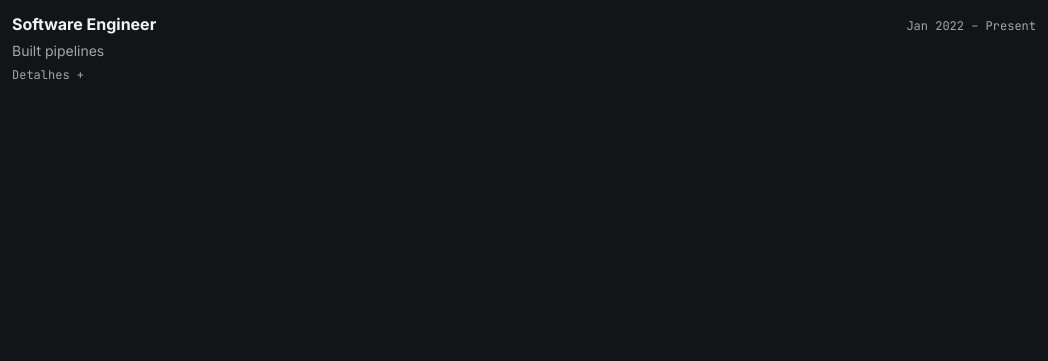
it: RoleCollapsible › aria-controls points to the region holding the remaining responsibilities
Click the button. click: (48, 75)
box: [12,67,84,83]
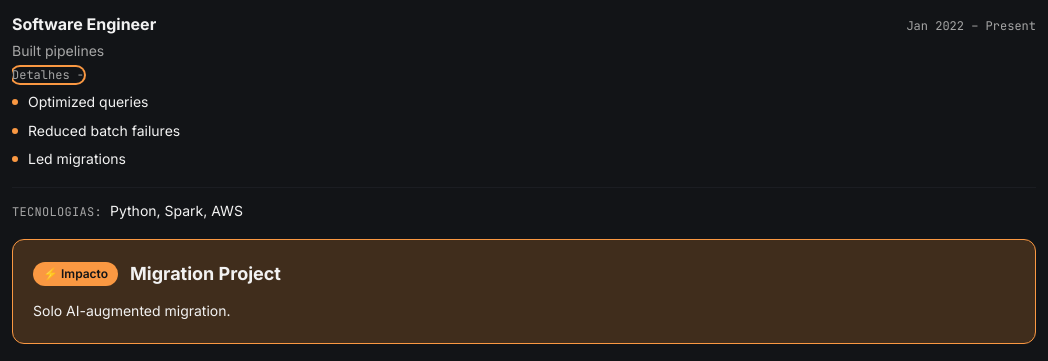
Expected: the text "Led migrations" is shown, [28,148,126,171]
Expected: the heading "Migration Project" is shown, [130,260,281,288]
